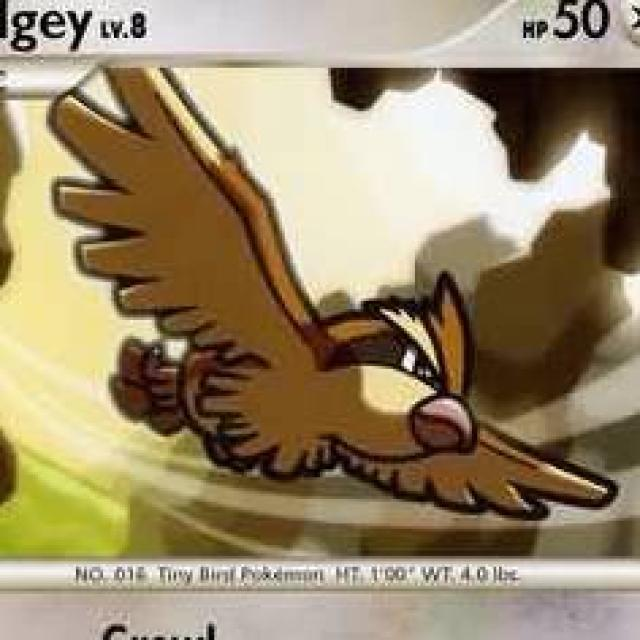Pidgey: (101, 176, 539, 488)
